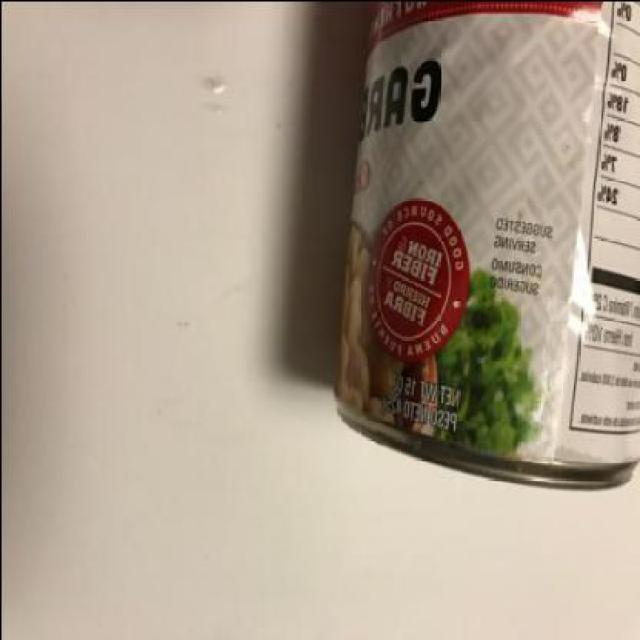METAL: (336, 2, 638, 490)
